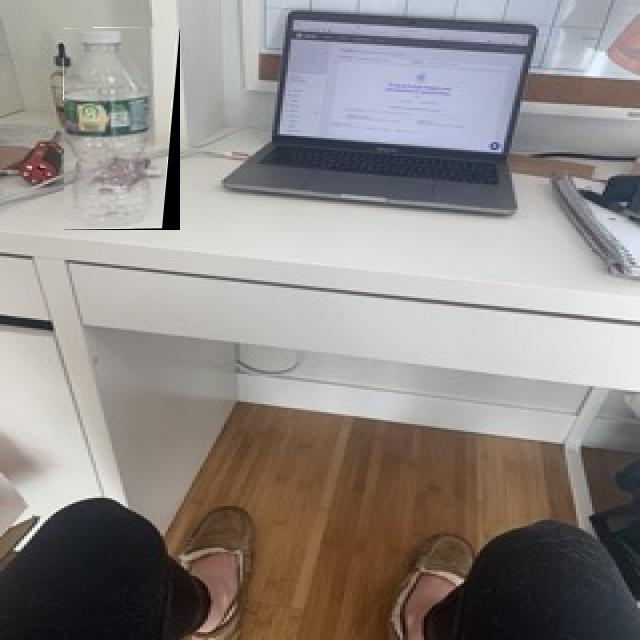water_bottle: (64, 28, 180, 230)
